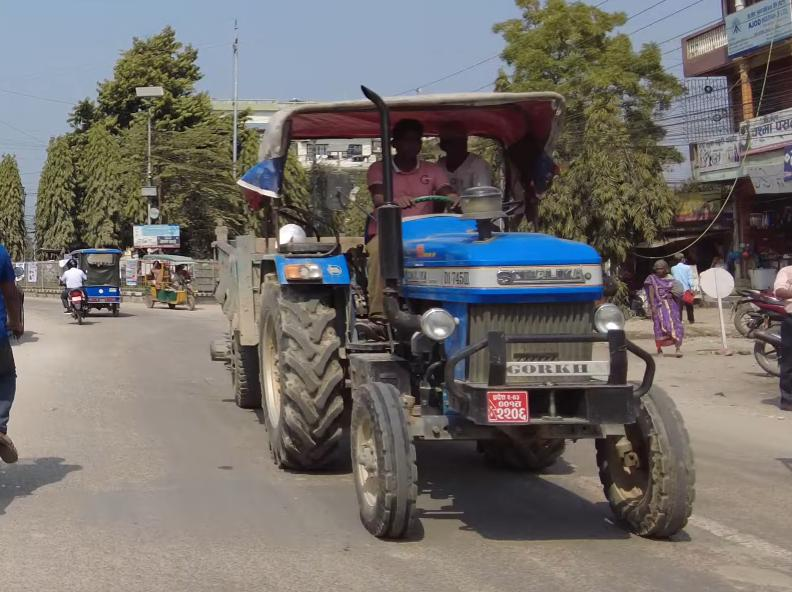bike: (58, 284, 92, 332)
e-rickshaw: (59, 243, 125, 317), (137, 252, 197, 312)
tractor: (244, 75, 707, 559)
